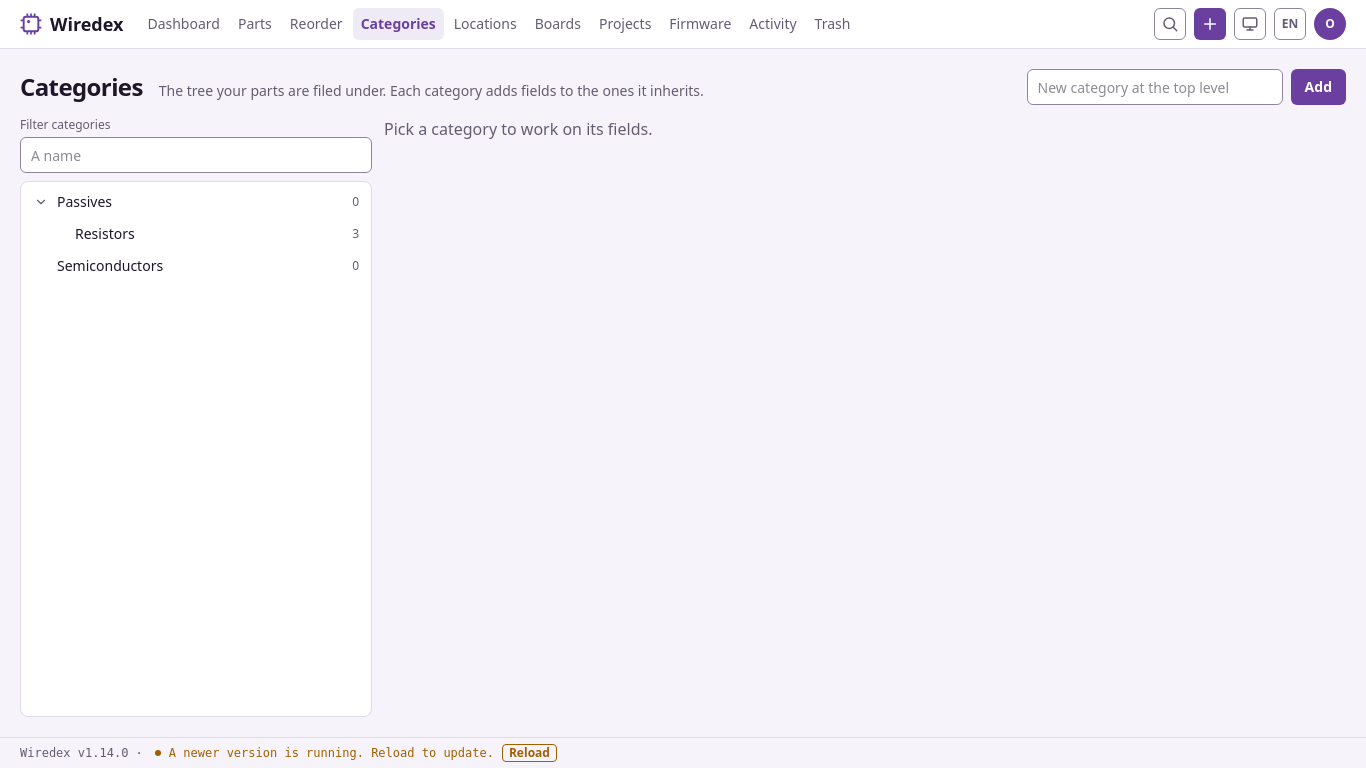
Scenario: CategoriesPage › offers to clear the filter while it narrows the tree
The image size is (1366, 768).
Check: the button "Clear" is not shown
In the search field labelled "Filter categories": (196,155) [20,137,372,173], type "nothing"
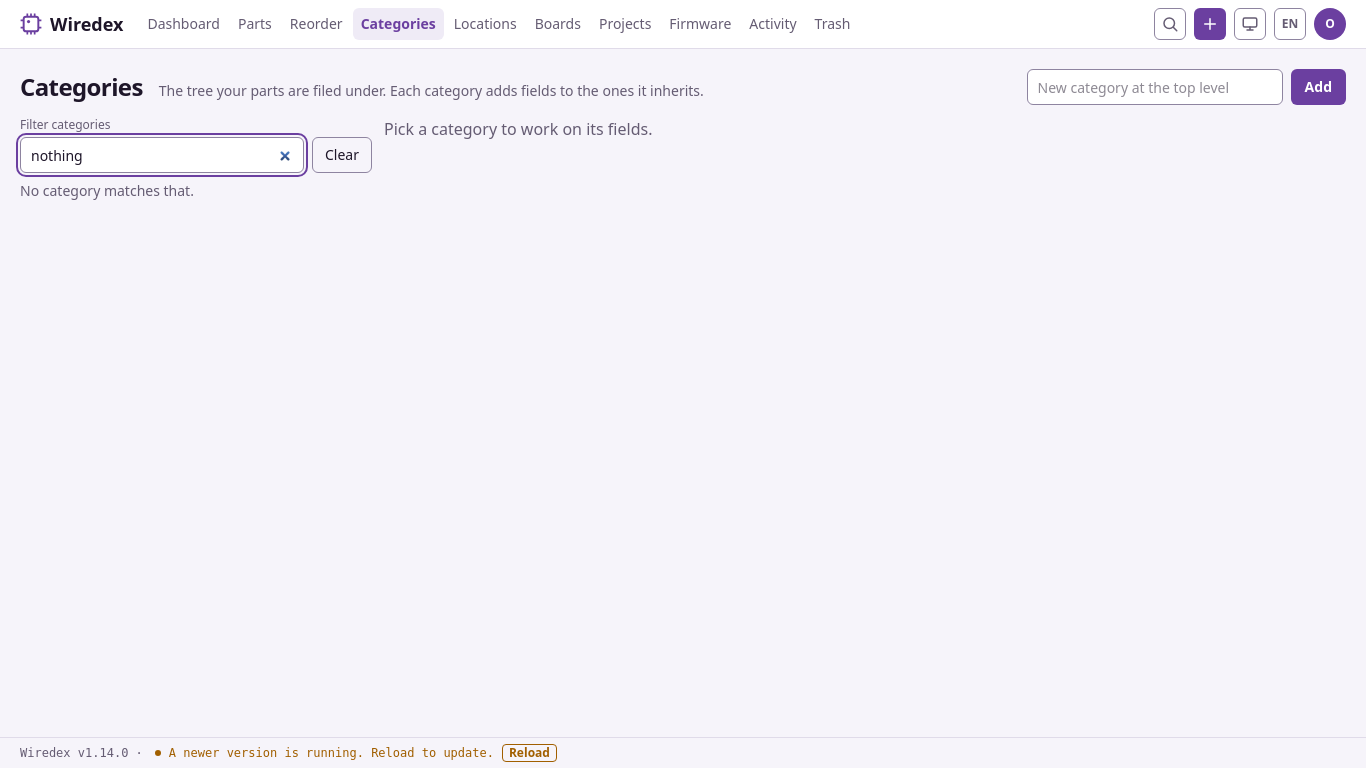
Click the button "Clear": (342,155) [312,137,372,173]
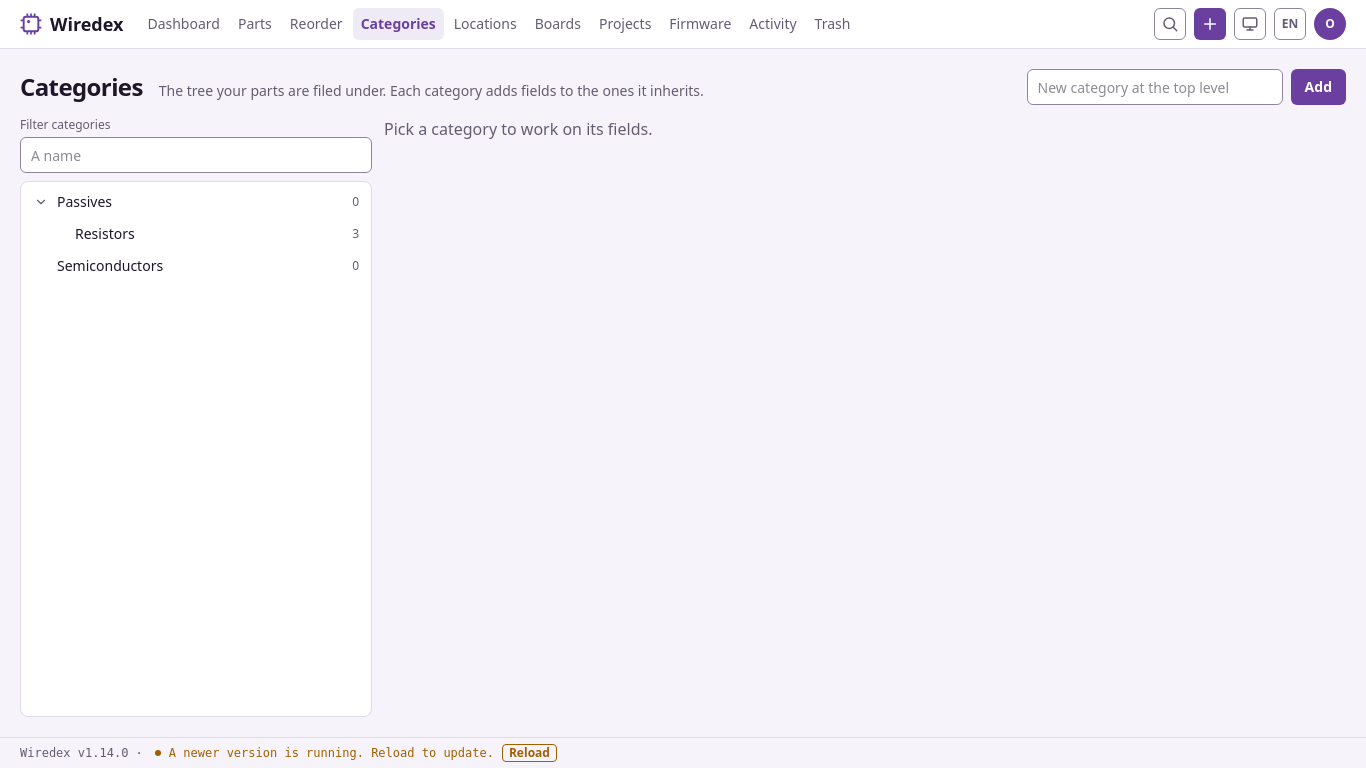
Check: the search field labelled "Filter categories" is empty, box [20,137,372,173]
Check: the list named "Category tree" is shown, box [25,186,367,282]
Check: the button "Clear" is gone
